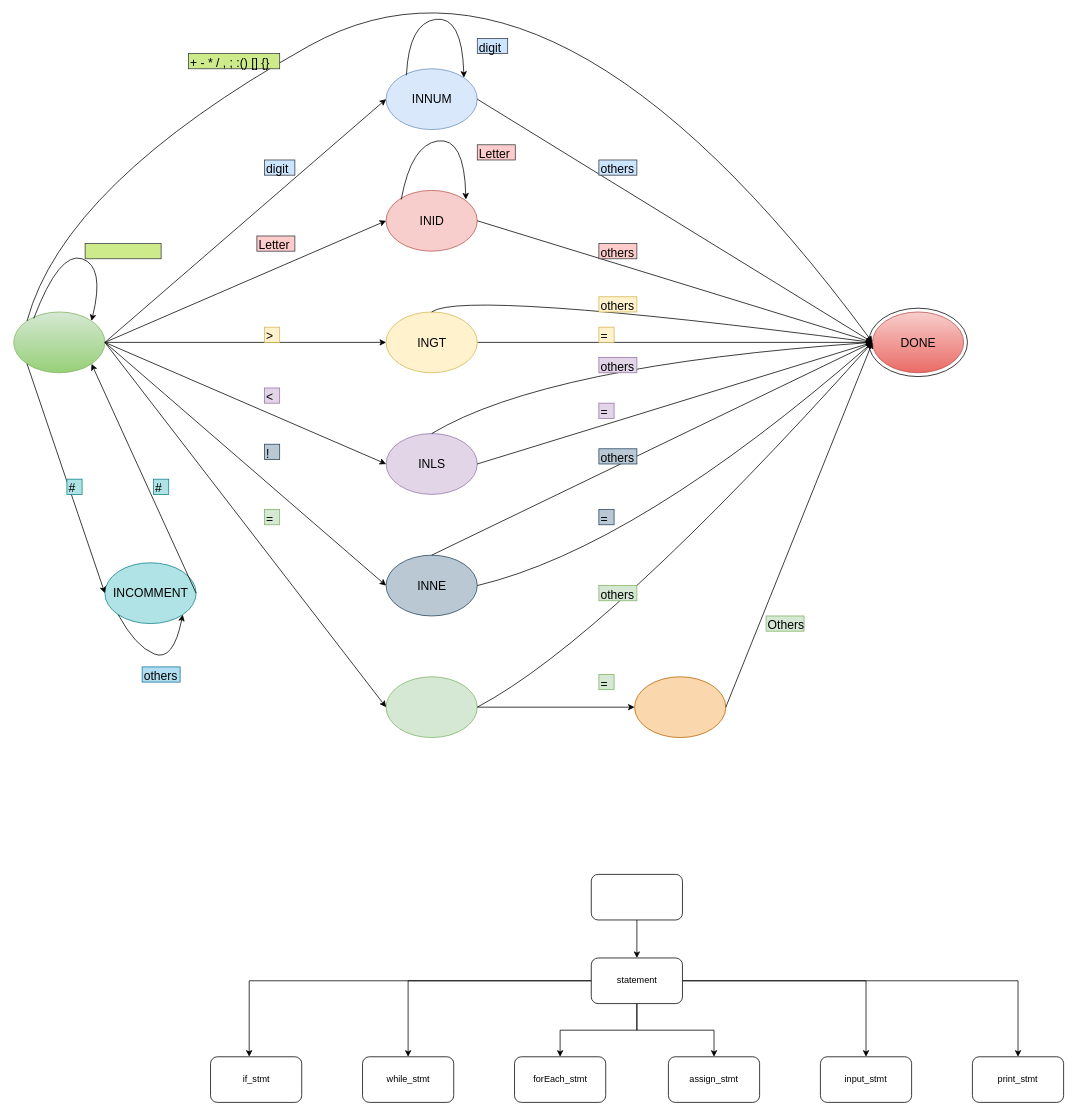
Some shapes in this 1077 by 1116 pixel diagram are drawn without their labels. The shapes that lost their labels are listed below. From the top down, each one's centre as x and y in pixels, then its label:
At point (122, 251): "white space".
At point (59, 342): "START".
At point (431, 707): "INASSIGN".
At point (680, 707): "INEQ".
At point (636, 897): "stmt_sequence".
